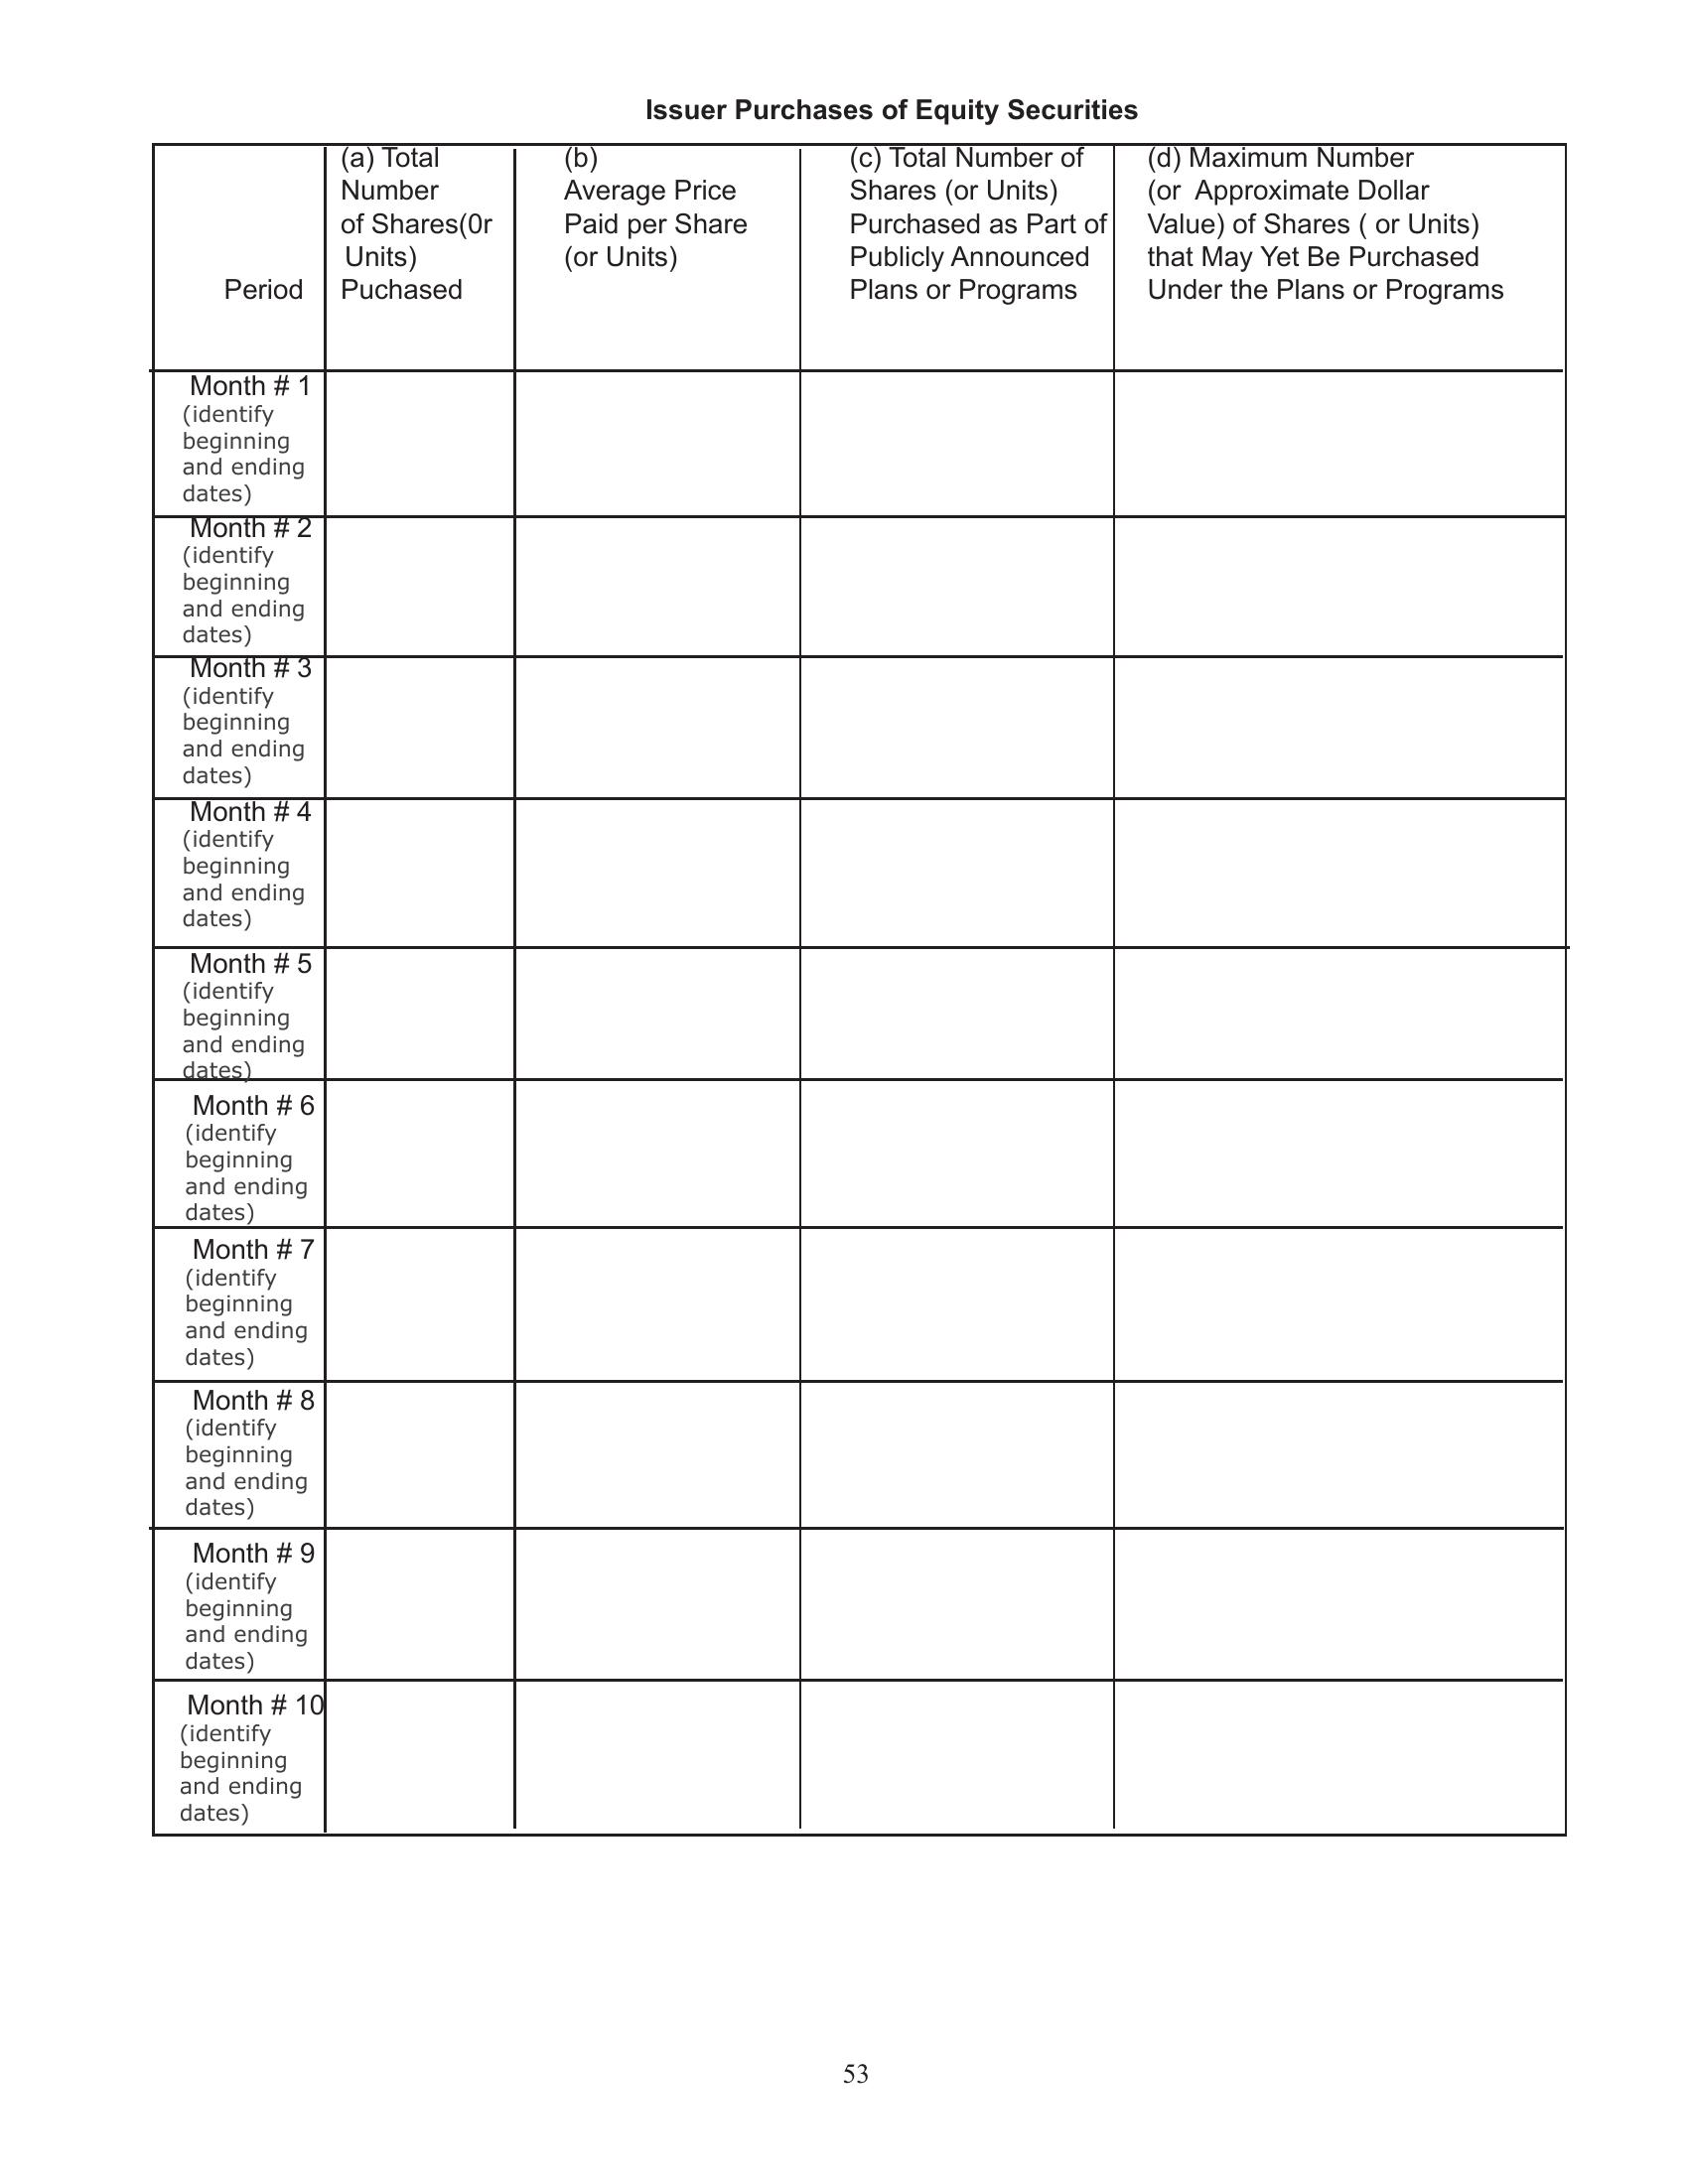table: (144, 133, 1575, 1844)
